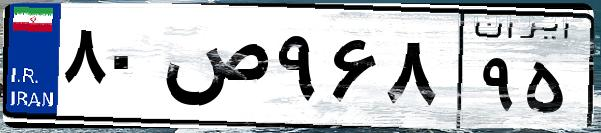0: (110, 28, 158, 98)
5: (525, 38, 570, 115)
6: (330, 28, 385, 110)
8: (385, 28, 445, 110), (57, 26, 110, 100)
9: (270, 28, 330, 110), (475, 38, 525, 113)
ص: (158, 20, 270, 120)
